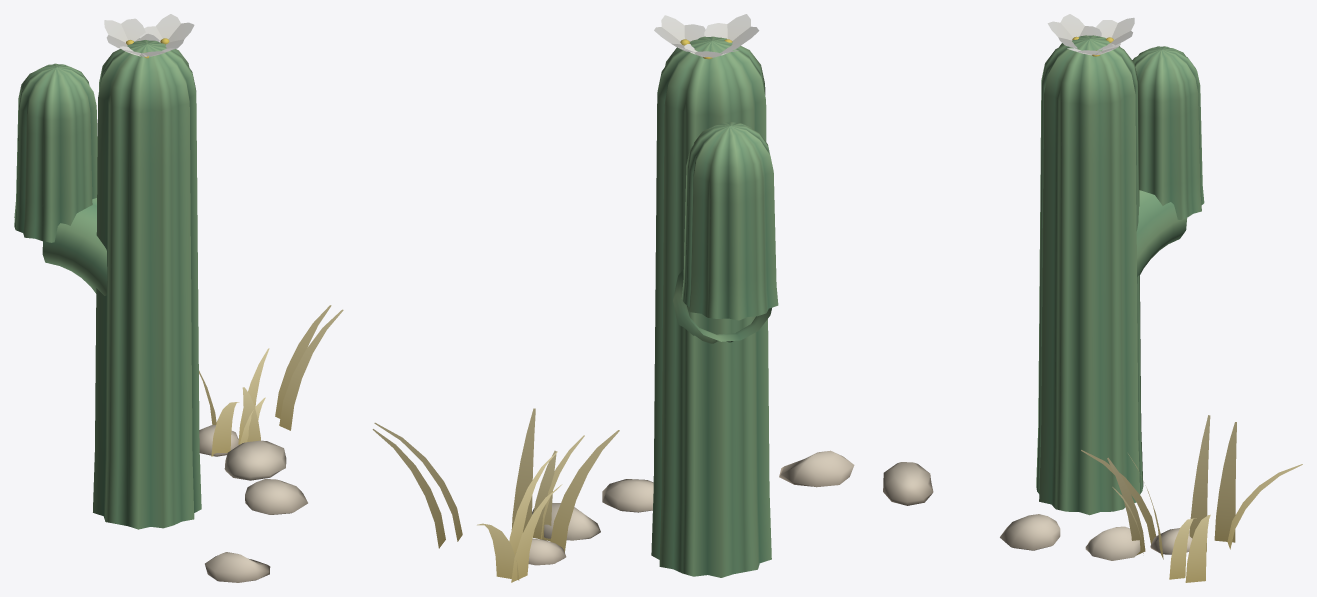
Rendered from cactus_saguaro_b.glb.
The picture shows the model from 3 angles, left to right: view 1: azimuth 30°, elevation 25°; view 2: azimuth 150°, elevation 25°; view 3: azimuth 270°, elevation 25°; orthographic projection. The views are drawn at different scales.
Visible parts, largest first — view 1: body; view 2: body; view 3: body.
Part boxes in pixels (bbox=[...]): body: bbox=[14, 14, 343, 582]; body: bbox=[372, 14, 854, 582]; body: bbox=[883, 14, 1302, 582].
Size of the model in its own units: 0.5352 by 0.7082 by 0.5806.
